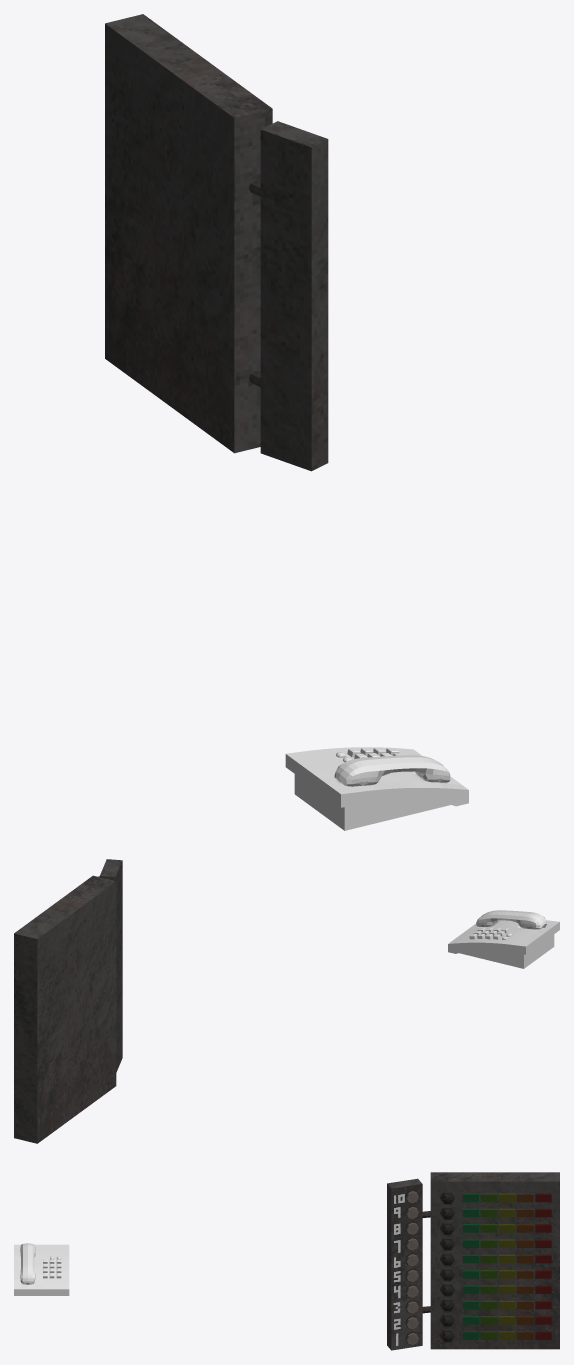
Rendered from Bno8_Room_Ctrl_Tele.fbx.
The picture shows the model from 3 angles, top to bottom: view 1: azimuth 30°, elevation 25°; view 2: azimuth 150°, elevation 25°; view 3: azimuth 270°, elevation 25°; orthographic projection. The views are drawn at different scales.
Parts seen in each view (by area): view 1: ControlPanel, TelephoneBox, TelephoneTalk; view 2: ControlPanel, TelephoneBox, TelephoneTalk; view 3: ControlPanel, TelephoneBox, TelephoneTalk.
Part boxes in pixels (bbox=[...]): ControlPanel: bbox=[105, 14, 328, 471]; TelephoneBox: bbox=[285, 747, 468, 830]; TelephoneTalk: bbox=[334, 755, 450, 786]; ControlPanel: bbox=[14, 859, 122, 1143]; TelephoneBox: bbox=[448, 920, 559, 968]; TelephoneTalk: bbox=[476, 910, 546, 929]; ControlPanel: bbox=[387, 1172, 559, 1350]; TelephoneBox: bbox=[14, 1244, 69, 1295]; TelephoneTalk: bbox=[20, 1243, 35, 1284].
Bounding box in the file's own units: 56.96 × 50.1 × 148.
